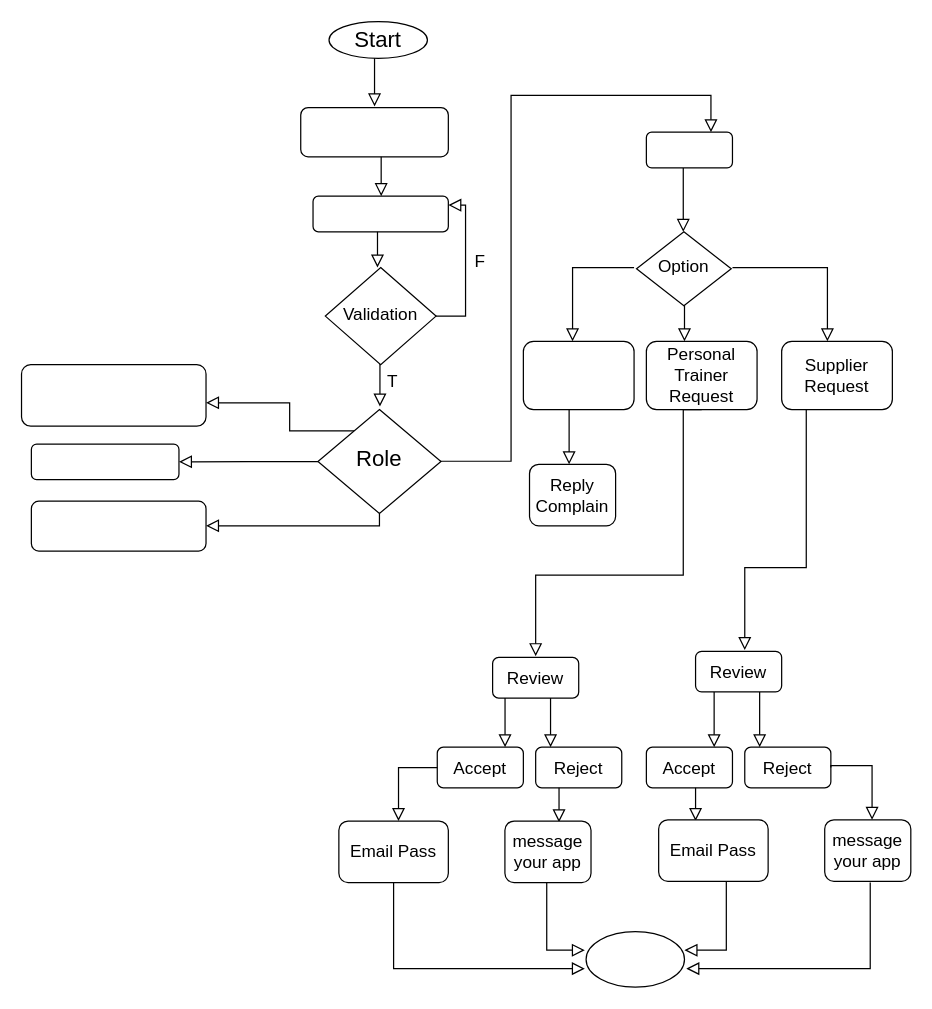
The diagram is 932 pixels wide and 1009 high, and some of its shapes have lost their labels. The centre of each missing label's shape, as x and y in pixels:
"Admin" goes at pixel 688 149.
"Customer Complain" goes at pixel 578 375.
"Customer Trainee Module" goes at pixel 113 394.
"Guest Page" goes at pixel 374 131.
"Login" goes at pixel 380 213.
"Personal Trainer" goes at pixel 118 525.
"Stop" goes at pixel 634 958.
"Supplier" goes at pixel 104 461.
